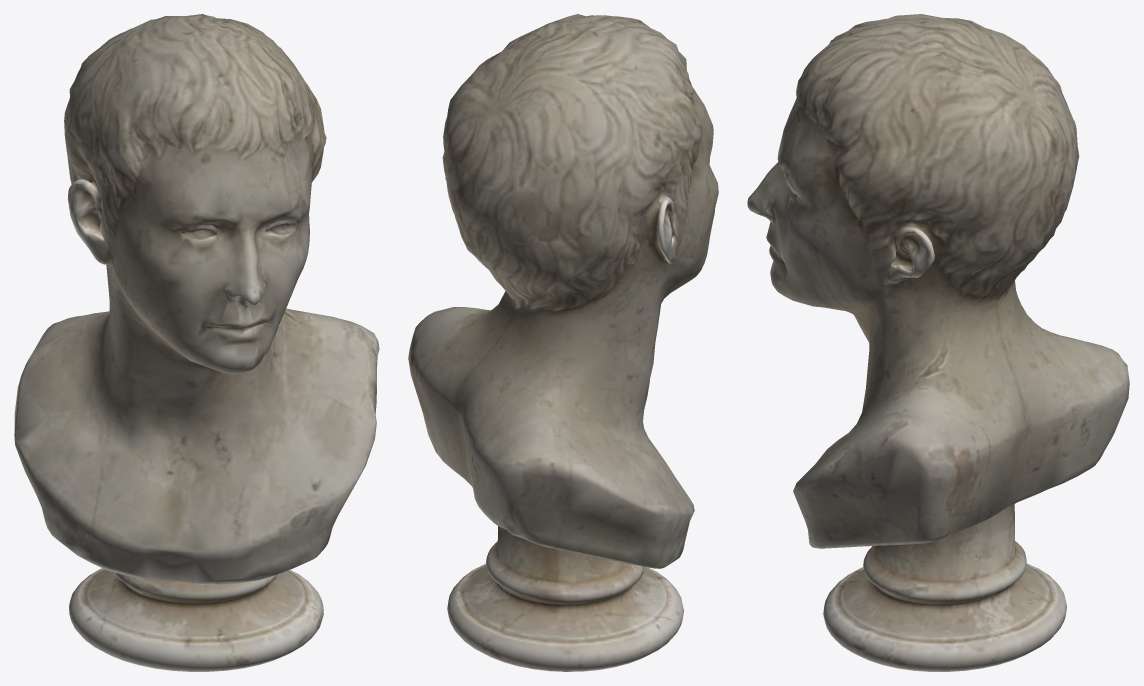
The model's file is marble_bust_01.ed16144d.glb.
The picture shows the model from 3 angles, left to right: view 1: azimuth 30°, elevation 25°; view 2: azimuth 150°, elevation 25°; view 3: azimuth 270°, elevation 25°; orthographic projection. The views are drawn at different scales.
Parts seen in each view (by area): view 1: marble_bust_01; view 2: marble_bust_01; view 3: marble_bust_01.
Boxes of the visible parts, left/top/right/bottom form: marble_bust_01: left=14, top=14, right=379, bottom=671; marble_bust_01: left=408, top=14, right=718, bottom=671; marble_bust_01: left=747, top=14, right=1129, bottom=671.
Size of the model in its own units: 0.5278 by 1 by 0.5821.
1 material, 1 textured.
